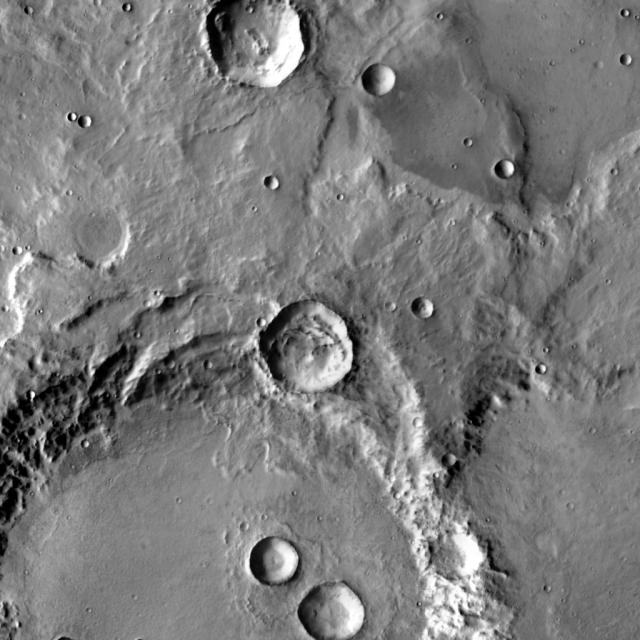crater: (0, 343, 494, 640), (59, 281, 436, 640), (325, 0, 640, 224), (390, 374, 640, 640), (210, 0, 311, 86), (264, 304, 357, 394), (72, 204, 136, 268), (304, 584, 369, 640), (432, 533, 487, 585), (254, 538, 303, 586), (367, 65, 401, 98), (17, 0, 58, 23), (416, 298, 439, 320), (500, 161, 520, 181), (269, 175, 285, 190), (447, 456, 461, 470), (82, 117, 96, 129), (626, 56, 638, 68), (18, 246, 28, 256), (141, 622, 151, 632), (418, 418, 428, 428), (169, 358, 179, 368), (72, 112, 82, 121), (543, 366, 552, 376), (207, 360, 217, 369), (600, 62, 609, 71), (126, 4, 136, 12), (392, 302, 401, 310), (262, 318, 271, 326), (470, 142, 478, 150), (627, 12, 635, 20), (148, 283, 156, 291), (87, 423, 95, 431), (5, 304, 13, 312), (250, 6, 258, 14), (0, 245, 8, 253), (148, 299, 156, 307), (22, 1, 30, 8), (246, 522, 253, 530), (86, 441, 94, 448), (16, 106, 23, 113), (542, 579, 549, 586), (586, 422, 594, 428), (133, 309, 140, 315), (566, 498, 573, 504), (434, 8, 441, 14), (387, 470, 394, 476), (336, 188, 342, 194), (391, 487, 398, 492)
